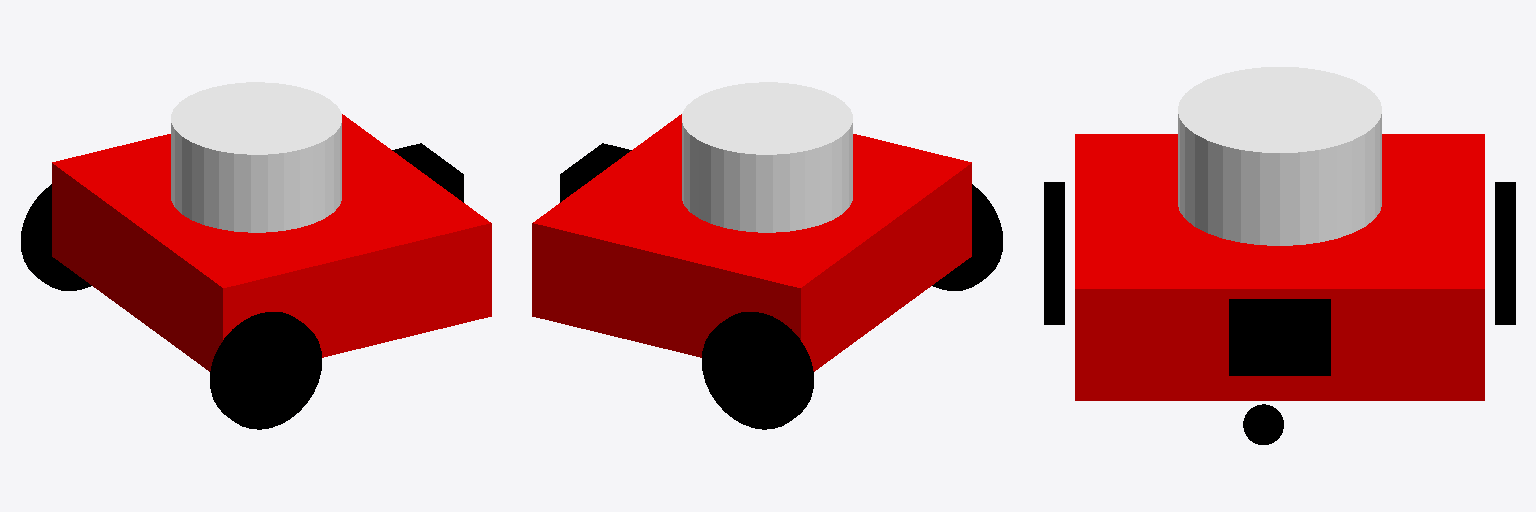
URDF robot description (2wheels):
<?xml version="1.0"?>
<robot name="2wheels" xmlns:xacro="http://www.ros.org/wiki/xacro">

<material name="red">
  <color rgba="1.0 0.0 0.0 1.0"/>
</material>

<material name="white">
  <color rgba="1.0 1.0 1.0 1.0"/>
</material>

<material name="black">
  <color rgba="0.0 0.0 0.0 1.0"/>
</material>

 <!-- A dummy link to avoid KDL error  -->
  <link name="base_link"/>
  <joint name="dummy joint" type="fixed">
    <origin rpy="0 0 0" xyz="0 0 0"/>
    <parent link="base_link"/>
    <child  link="chassis_link"/>
  </joint>

  <!-- Chassis link -->
  <link name="chassis_link">
    <!-- pose and inertial -->
    <pose>0 0 0 0 0 0</pose>
    <inertial>
      <mass value="6.0"/>
      <origin rpy="0 0 0" xyz="0.01 0 0.03"/>
      <inertia ixx="0.007" ixy="0" ixz="0" iyy="0.00547" iyz="0" izz="0.012023"/>
    </inertial>
    <!-- body -->
    <collision name="collision_chassis">
      <origin rpy=" 0 0 0" xyz="0.01 0 0.03"/>
      <geometry>
        <box size="0.18 0.2 0.06"/> <!-- ancho, largo, alto -->
      </geometry>
    </collision>

    <visual>
      <origin rpy="0 0 0" xyz="0.01 0 0.03"/>
      <geometry>
        <box size="0.18 0.2 0.06"/> <!-- ancho, largo, alto -->
      </geometry>
      <material name="red"/> <!-- This is only for Rviz visualization -->
    </visual>


    <!--visual>
      <origin rpy="0 0 -1.5708" xyz="0.0 0.01 0.0"/>
      <geometry>
        <mesh filename="package://two_wheels_description/meshes/robotmodel.dae"/>
      </geometry>
    </visual-->
  </link>

  <gazebo reference="chassis_link">
    <material>Gazebo/Red</material>
    <turnGravityOff>false</turnGravityOff>
  </gazebo>

  <!-- caster joint -->
  <joint name="joint_caster" type="continuous">
    <origin rpy="0 0 0" xyz="0.085 -0.008 -0.02"/>
    <!--origin rpy="0 0 0" xyz="0.008 0.085 -0.015"/-->
    <child link="caster_wheel"/>
    <parent link="chassis_link"/>
    <axis rpy="0 0 0" xyz="0 0 1"/>
    <!--limit effort="1000" velocity="10"/>
    <joint_properties damping="0.0" friction="0.01"/-->
  </joint>


  <!-- caster front link -->
  <link name="caster_wheel">
    <inertial>
      <mass value="0.05"/>
      <origin rpy="0 0 0" xyz="0 0 0"/>
      <inertia ixx="0.000001" ixy="0" ixz="0" iyy="0.000001" iyz="0" izz="0.000001"/>
    </inertial>
    <collision name="caster_front_collision">
      <origin rpy=" 0 0 0" xyz="0.0 0 0"/>
      <geometry>
        <sphere radius="0.01"/>
      </geometry>
      <surface>
        <friction>
          <ode>
            <mu>0.0</mu>
            <mu2>0.0</mu2>
            <slip1>1.0</slip1>
            <slip2>1.0</slip2>
          </ode>
        </friction>
      </surface>
    </collision>
    <visual name="caster_front_visual">
      <origin rpy=" 0 0 0" xyz="0.0 0 0"/>
      <geometry>
        <sphere radius="0.01"/>
      </geometry>
      <material name="black"/> <!-- This is only for Rviz visualization -->
    </visual>
  </link>
  <gazebo reference="caster_wheel">
    <mu1 value="0.0"/>
    <mu2 value="0.0"/>
    <kp value="10000000.0"/>
    <kd value="1.0"/>
    <fdir1 value="0 0 0"/>
    <material>Gazebo/Black</material>
    <turnGravityOff>false</turnGravityOff>
  </gazebo>








  <!-- XXXXXXXXXXX -->
  <!-- Right wheel -->
  <!-- XXXXXXXXXXX -->
  <!-- Joint between right wheel and chassis -->
  <joint name="joint_right_wheel" type="continuous">
    <origin rpy="-1.57079632 0  0" xyz="-0.0572 -0.11 0.006"/>
    <!--origin rpy="0 1.570 0" xyz="0.11 -0.057 0.012"/-->
    <child link="link_right_wheel"/>
    <parent link="chassis_link"/>
    <axis rpy="0 0 0" xyz="0 0 1"/>
    <limit effort="1000" velocity="100"/>
    <joint_properties damping="0.01" friction="0.01"/>
  </joint>
  <!-- right link -->
  <link name="link_right_wheel">
    <inertial>
      <mass value="0.1"/>
      <origin rpy="0 0 0" xyz="0 0 0"/>
      <inertia ixx="0.000016458" ixy="0" ixz="0" iyy="0.000016458" iyz="0" izz="0.000016458"/>
    </inertial>
     <surface>
        <friction>
          <ode>
            <mu>0.03</mu>
            <mu2>0.03</mu2>
          </ode>
        </friction>
      </surface>
    <collision name="link_right_wheel_collision">
      <origin rpy="0 0 0" xyz="0 0 0"/>
      <geometry>
         <cylinder length="0.01" radius="0.035"/>
      </geometry>
    </collision>
    <visual name="link_right_wheel_visual">
      <origin rpy="0 0 0" xyz="0 0 0"/>
      <geometry>
         <cylinder length="0.01" radius="0.035"/>
      </geometry>
      <material name="black"/> <!-- This is only for Rviz visualization -->
    </visual>
  </link>


  <!-- XXXXXXXXXXX -->
  <!-- LEFT wheel -->
  <!-- XXXXXXXXXXX -->
   <!-- Joint between LEFT wheel and chassis -->
  <joint name="joint_left_wheel" type="continuous">
        <!-- Previous  xyz="-0.095 -0.055 0.01 -->
        <origin rpy="1.57079632 0  0" xyz="-0.0572 0.11  0.006"/>
        <!--origin rpy="0 -1.570 0" xyz="-0.11 -0.057 0.012"/--> <!-- PAY ATTENTION NEGATIVE 'y' -->
        <child link="link_left_wheel"/>
        <parent link="chassis_link"/>
        <axis rpy="0 0 0" xyz="0 0 -1"/>
        <limit effort="1000" velocity="100"/>
        <joint_properties damping="0.01" friction="0.01"/>
  </joint>
  <!-- left link -->
  <link name="link_left_wheel">
        <inertial>
          <mass value="0.1"/>
          <origin rpy="0 0 0" xyz="0 0 0"/>
          <inertia ixx="0.000016458" ixy="0" ixz="0" iyy="0.000016458" iyz="0" izz="0.000016458"/>
        </inertial>
         <surface>
        <friction>
          <ode>
            <mu>0.03</mu>
            <mu2>0.03</mu2>
          </ode>
        </friction>
      </surface>
        <collision name="link_left_wheel_collision">
          <origin rpy="0 0 0" xyz="0 0 0"/>
          <geometry>
            <cylinder length="0.01" radius="0.035"/>
          </geometry>
        </collision>
        <visual name="link_left_wheel_visual">
          <origin rpy="0 0 0" xyz="0 0 0"/>
          <geometry>
            <cylinder length="0.01" radius="0.035"/>
          </geometry>
          <material name="black"/> <!-- This is only for Rviz visualization -->
        </visual>
  </link>





  <!-- laser link -->
  <link name="base_laser_link">
    <inertial>
      <origin xyz="0 0 0" rpy="0 0 0" />
      <mass value="0.25" />
      <inertia ixx="0.000208333" ixy="0" ixz="0" iyy="0.000208333" iyz="0" izz="0.0003125"/>
    </inertial>

    <visual>
      <origin xyz="0 0 0" rpy="0 0 0" />
      <geometry>
        <cylinder radius="0.05" length="0.05"/>
      </geometry>
      <material name="white" />
    </visual>

    <collision>
      <origin xyz="0 0 0" rpy="0 0 0"/>
      <geometry>
        <cylinder radius="0.05" length="0.05"/>
      </geometry>
    </collision>
  </link>
  <gazebo reference="base_laser_link"> <!--Color for the link -->
      <material>Gazebo/Blue</material>
  </gazebo>

  <!-- joint to attach the laser to the chassis -->
  <joint name="joint_base_laser_link" type="fixed">
    <origin xyz="0.0 0 0.085" rpy="0 0.0 0"/>
    <parent link="chassis_link"/>
    <child link="base_laser_link"/>
  </joint>

  <!-- Plugin for the wheels -->
  <gazebo>
    <plugin filename="libgazebo_ros_diff_drive.so" name="differential_drive_controller">
      <legacyMode>false</legacyMode>
      <alwaysOn>true</alwaysOn>
      <updateRate>50</updateRate>
      <leftJoint>joint_left_wheel</leftJoint>
      <rightJoint>joint_right_wheel</rightJoint>
      <wheelSeparation>0.22</wheelSeparation>
      <wheelDiameter>0.07</wheelDiameter>
      <!-- Wheel acceleration, in rad/s^2, defaults to 0.0 rad/s^2 -->
      <wheelAcceleration>100.0</wheelAcceleration>
      <!-- Maximum torque which the wheels can produce, in Nm, defaults to 5 Nm -->
      <wheelTorque>4000</wheelTorque>
       <!-- Topic to receive geometry_msgs/Twist message commands, defaults to `cmd_vel` -->
      <commandTopic>cmd_vel</commandTopic>
      <!-- Odometry source, 0 for ENCODER, 1 for WORLD, defaults to WORLD -->
      <odometrySource>1</odometrySource>
      <odometryTopic>odom</odometryTopic>
      <odometryFrame>odom</odometryFrame>
      <!-- Set to true to publish transforms for the wheel links, defaults to false -->
      <publishWheelTF>true</publishWheelTF>
      <robotBaseFrame>base_link</robotBaseFrame>
    </plugin>
  </gazebo>

    <!-- plugin for the laser -->
   <gazebo reference="base_laser_link">
    <sensor type="ray" name="head_rplidar">
      <pose>0 0 0 0 0 0</pose>
      <visualize>false</visualize>
      <update_rate>10</update_rate><!--10 hz as the RP lidar-->
      <ray>
        <scan>
          <horizontal>
            <samples>1440</samples>
            <resolution>1</resolution>
            <min_angle>-3.141596</min_angle>
            <max_angle>3.141596</max_angle>
          </horizontal>
        </scan>
        <range>
          <min>0.15</min>
          <max>8.0</max>
          <resolution>0.01</resolution>
        </range>
        <noise>
          <type>gaussian</type>
          <mean>0.0</mean>
          <stddev>0.01</stddev>
        </noise>
      </ray>
      <plugin name="gazebo_ros_head_hokuyo_controller" filename="libgazebo_ros_laser.so">
        <topicName>/base_scan</topicName>
        <frameName>base_laser_link</frameName>
      </plugin>
    </sensor>
  </gazebo>





  <!-- XXXXXXXXXXXXXXXXXXXXXXXXXXXXXX
  Simulation of a camera:
  XXXXXXXXXXXXXXXXXXXXXXXXXXXXX-->
  <joint name="camera1_joint"  type="revolute">
        <axis xyz="0 1 0"/>
        <limit effort="100000.0" lower="-0.8" upper="0.3" velocity="0.2"/>
         <origin xyz="0.11 0.0 0.04" rpy="0 0 0"/>
        <parent link="chassis_link"/>
         <child link="camera1_link"/>
    </joint>
 <!-- Camera -->
  <link name="camera1_link">
    <collision>
      <origin xyz="0 0 0" rpy="0 0 0"/>
      <geometry>
        <box size="0.03 0.05 0.03"/>
      </geometry>
    </collision>

    <visual>
      <origin xyz="0 0 0" rpy="0 0 0"/>
      <geometry>
        <box size="0.03 0.05 0.03"/>
      </geometry>
      <material name="black"/> <!-- This is only for Rviz visualization -->
    </visual>
    <inertial>
      <mass value="0.04" />
      <origin xyz="0 0 0" rpy="0 0 0"/>
      <inertia ixx="0.000001" ixy="0" ixz="0" iyy="0.000001" iyz="0" izz="0.000001" />
    </inertial>
  </link>
  <gazebo reference="camera1_link"> <!--Color for the camera1_link -->
      <material>Gazebo/Black</material>
  </gazebo>

  <!-- Transmission camera -->
  <transmission name="camera1_tran">
    <type>transmission_interface/SimpleTransmission</type>
    <joint name="camera1_joint">
      <hardwareInterface>hardware_interface/EffortJointInterface</hardwareInterface>
    </joint>
    <actuator name="motor_camera1">
      <hardwareInterface>hardware_interface/EffortJointInterface</hardwareInterface>
      <mechanicalReduction>1</mechanicalReduction>
    </actuator>
  </transmission>
  <!-- Plugin for the camera -->
   <gazebo reference="camera1_link">
    <sensor type="camera" name="camera1">
      <update_rate>30.0</update_rate>
      <camera name="camera1">
        <horizontal_fov>1</horizontal_fov>
        <image>
          <width>640</width>
          <height>480</height>
          <format>R8G8B8</format>
        </image>
        <clip>
          <near>0.02</near>
          <far>300</far>
        </clip>
        <noise>
          <type>gaussian</type>
          <!-- Noise is sampled independently per pixel on each frame.
               That pixel's noise value is added to each of its color
               channels, which at that point lie in the range [0,1]. -->
          <mean>0.0</mean>
          <stddev>0.007</stddev>
        </noise>
      </camera>
      <plugin name="camera1_controller" filename="libgazebo_ros_camera.so">
        <alwaysOn>true</alwaysOn>
        <updateRate>0.0</updateRate>
        <cameraName>two_wheels_robot/camera1</cameraName>
        <imageTopicName>image_raw</imageTopicName>
        <cameraInfoTopicName>camera_info</cameraInfoTopicName>
        <frameName>camera_link</frameName>
        <hackBaseline>0.07</hackBaseline>
        <distortionK1>0.0</distortionK1>
        <distortionK2>0.0</distortionK2>
        <distortionK3>0.0</distortionK3>
        <distortionT1>0.0</distortionT1>
        <distortionT2>0.0</distortionT2>
      </plugin>
    </sensor>
  </gazebo>

<!-- ros_control Gazebo plugin -->
  <gazebo>
    <plugin name="gazebo_ros_control" filename="libgazebo_ros_control.so">
      <robotNamespace>/two_wheels_robot</robotNamespace>
      <robotSimType>gazebo_ros_control/DefaultRobotHWSim</robotSimType>
      <legacyModeNS>true</legacyModeNS>
    </plugin>
  </gazebo>


</robot>

--- Render facts (derived) ---
Views: 3 orthographic renders of the robot side by side, from view 1: azimuth 30°, elevation 25°; view 2: azimuth 150°, elevation 25°; view 3: azimuth 270°, elevation 25°.
Robot: 2wheels — 7 links, 6 joints (1 revolute, 3 continuous, 2 fixed); root link base_link; default pose: every joint at zero.
Visible links, largest first — view 1: chassis_link, base_laser_link, link_right_wheel, link_left_wheel, camera1_link; view 2: chassis_link, base_laser_link, link_left_wheel, link_right_wheel, camera1_link; view 3: chassis_link, base_laser_link, camera1_link, link_right_wheel, link_left_wheel, caster_wheel.
Link boxes in pixels (x1,y1,x2,y2): chassis_link: [52, 114, 491, 371]; base_laser_link: [171, 82, 341, 232]; link_right_wheel: [210, 312, 321, 429]; link_left_wheel: [21, 184, 91, 290]; camera1_link: [392, 143, 463, 202]; chassis_link: [532, 114, 971, 371]; base_laser_link: [682, 82, 852, 232]; link_left_wheel: [702, 312, 813, 429]; link_right_wheel: [932, 184, 1002, 290]; camera1_link: [560, 143, 631, 202]; chassis_link: [1075, 134, 1484, 400]; base_laser_link: [1178, 67, 1381, 245]; camera1_link: [1229, 299, 1330, 375]; link_right_wheel: [1044, 182, 1064, 324]; link_left_wheel: [1495, 182, 1515, 324]; caster_wheel: [1243, 404, 1283, 444].
Bounding box of the posed robot: 0.2172 × 0.23 × 0.14 m (x, y, z).
Geometry: primitives only (box / cylinder / sphere), no mesh files.
